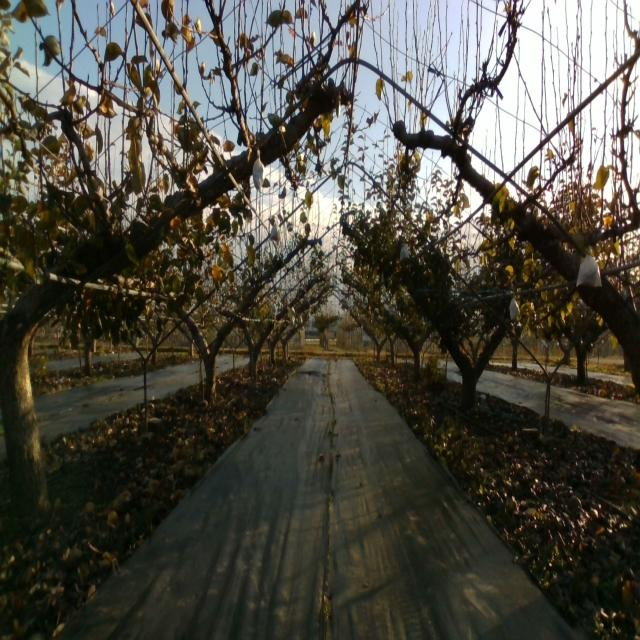pearbags: (575, 245, 603, 289), (251, 149, 266, 191), (508, 296, 520, 322), (268, 221, 282, 242)
